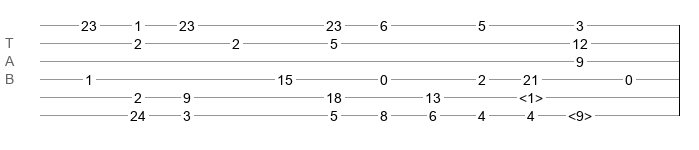0: (380, 72, 388, 82), (625, 72, 633, 82)
1: (85, 72, 93, 82), (134, 18, 142, 28)
12: (572, 36, 588, 46)
13: (425, 90, 441, 100)
15: (277, 72, 293, 82)
18: (326, 90, 342, 100)
2: (134, 90, 142, 100), (134, 36, 142, 46), (232, 36, 240, 46), (478, 72, 486, 82)
21: (523, 72, 539, 82)
23: (81, 18, 97, 28), (179, 18, 195, 28), (326, 18, 342, 28)
24: (130, 108, 146, 118)
3: (183, 108, 191, 118), (576, 18, 584, 28)
4: (478, 108, 486, 118), (527, 108, 535, 118)
5: (330, 36, 338, 46), (330, 108, 338, 118), (478, 18, 486, 28)
6: (380, 18, 388, 28), (429, 108, 437, 118)
8: (380, 108, 388, 118)
9: (183, 90, 191, 100), (576, 54, 584, 64)
harmonic: (519, 90, 543, 100), (568, 108, 592, 118)
